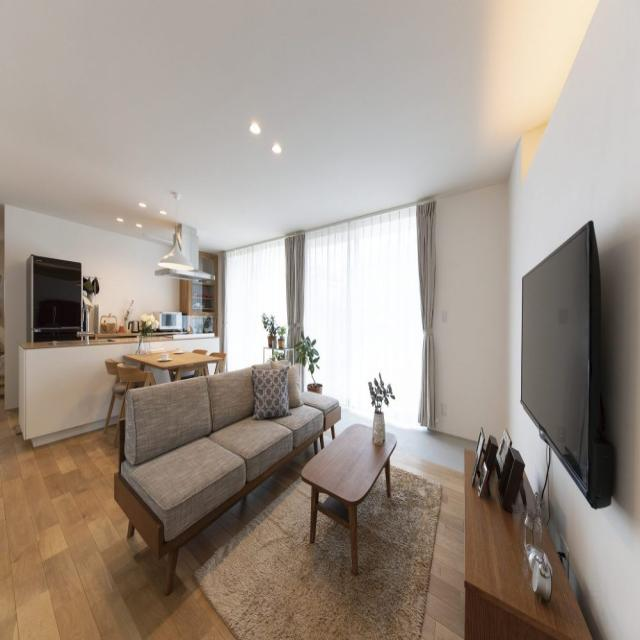natural desk: (300, 420, 396, 570)
natural sofa: (109, 361, 292, 558)
